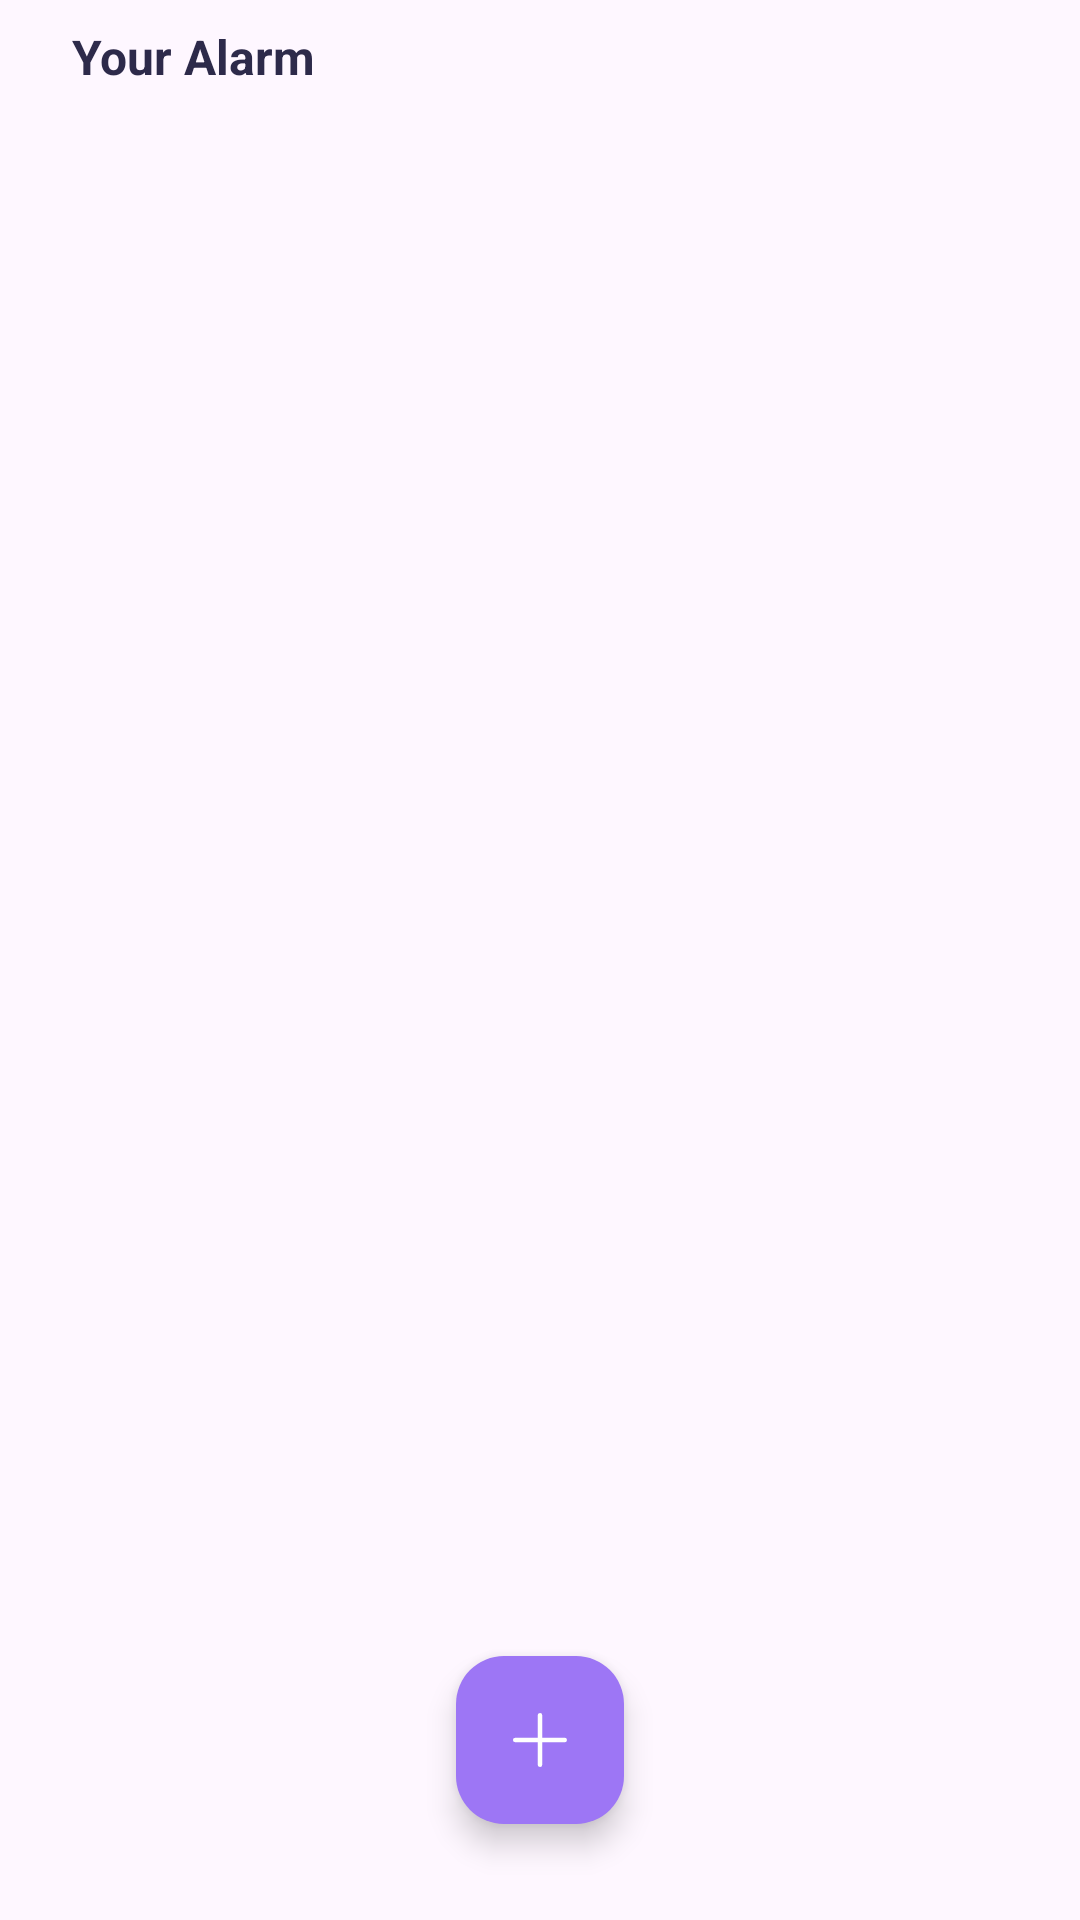

Named icons in this screenshot (1080 × 1920) and their centers, point (x, y):
plus: point (540, 1740)
